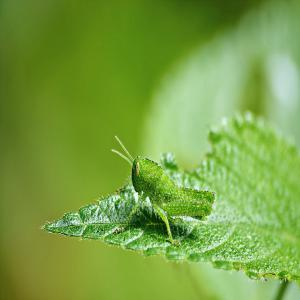locust: (111, 123, 231, 230)
